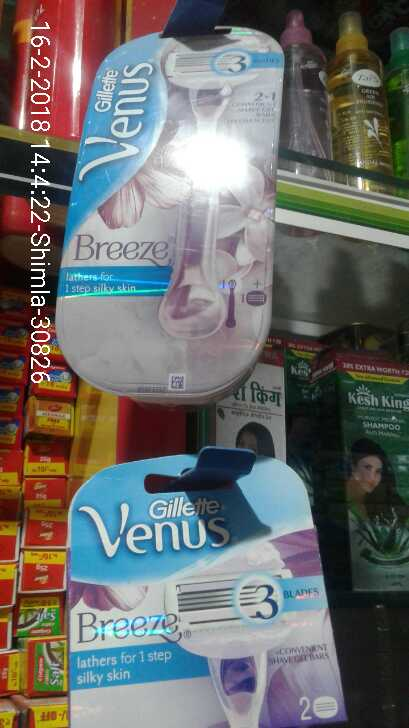venus: (57, 25, 282, 398), (74, 468, 352, 728)
